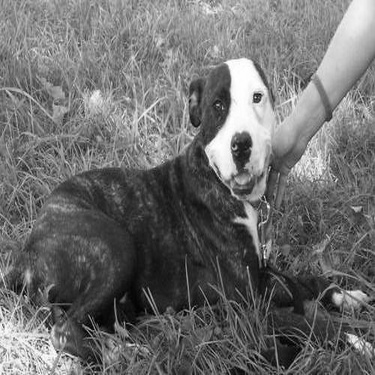dog: (2, 48, 372, 369)
